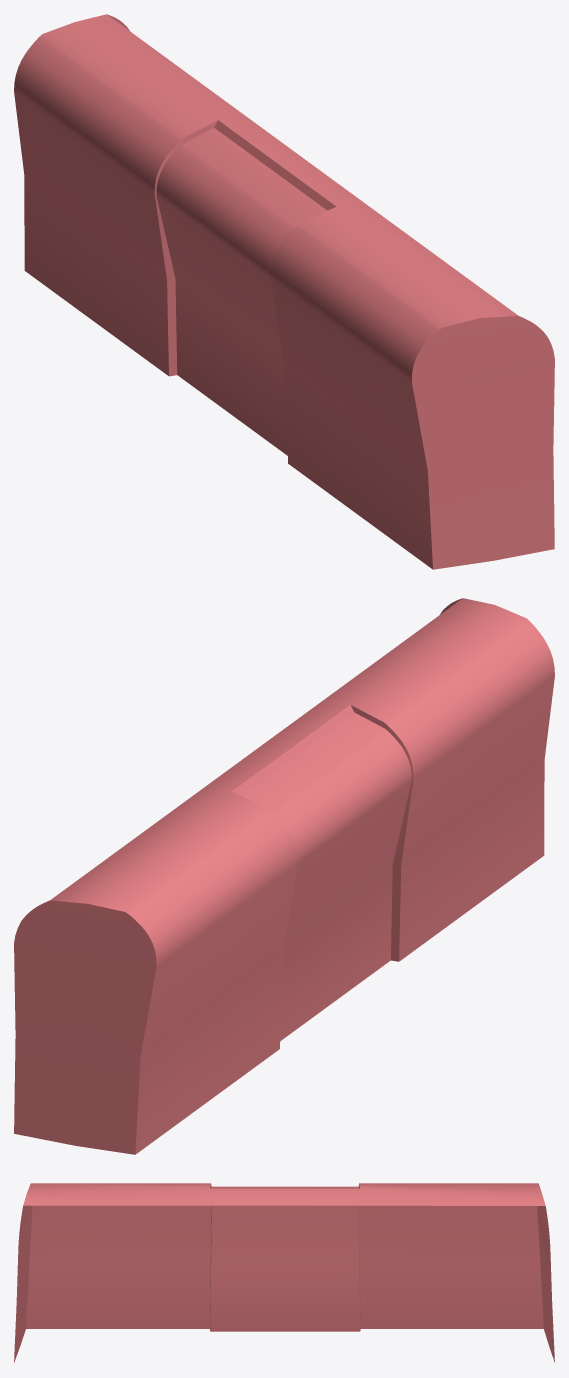
The model's file is seat.fbx.
3 renders of one model, top to bottom at view 1: azimuth 30°, elevation 25°; view 2: azimuth 150°, elevation 25°; view 3: azimuth 270°, elevation 25°, orthographic. The views are drawn at different scales.
Visible parts, largest first — view 1: seat; view 2: seat; view 3: seat.
Part boxes in pixels (<box>): seat: <box>14,14,554,569</box>; seat: <box>14,598,554,1154</box>; seat: <box>14,1183,554,1362</box>.
Size of the model in its own units: 8.04 by 14.34 by 45.04.
